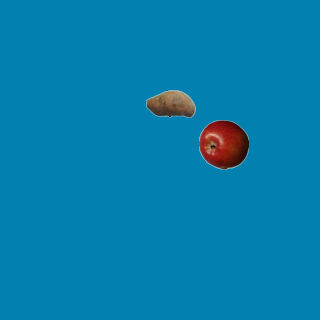Apple Braeburn: (198, 119, 248, 169)
Potato Sweet: (145, 78, 195, 128)
